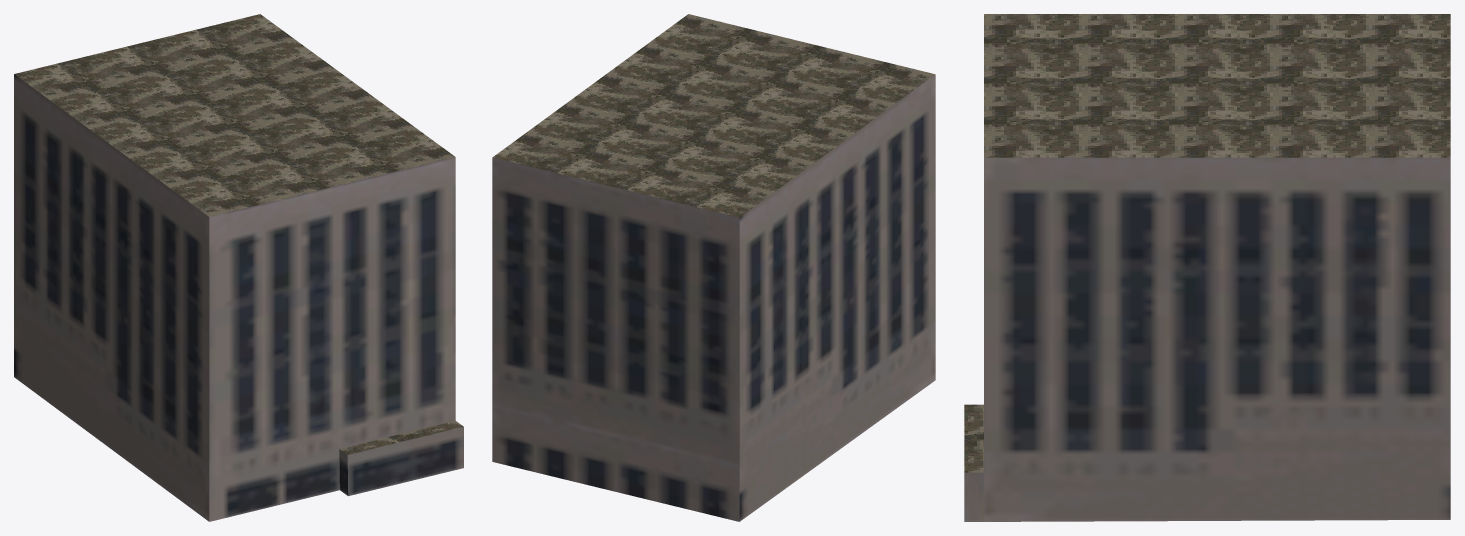
Rendered from lodlenbuilds12.obj.
3 renders of one model, left to right at view 1: azimuth 30°, elevation 25°; view 2: azimuth 150°, elevation 25°; view 3: azimuth 270°, elevation 25°, orthographic. The views are drawn at different scales.
Visible parts, largest first — view 1: LODlenbuilds12; view 2: LODlenbuilds12; view 3: LODlenbuilds12.
Part boxes in pixels (x1,y1,x2,y2): LODlenbuilds12: (14, 14, 463, 521); LODlenbuilds12: (492, 14, 935, 521); LODlenbuilds12: (964, 14, 1450, 521).
Size of the model in its own units: 42.62 by 50.47 by 61.04.
Materials: 2 (2 with a texture image).
